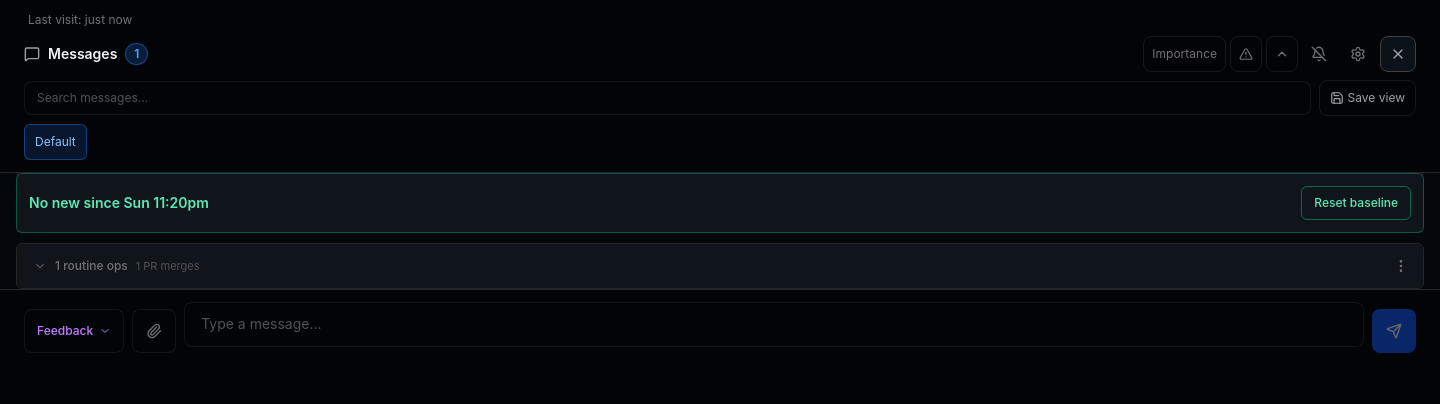
Test case: MessagesPanel mute window › selecting 1h surfaces the mute-active banner on the routine section
This screenshot has width=1440, height=404.
Expected: the text "Mute active" is not shown
Click the button named "Mute routine ops temporarily": [1319, 54] box top-left (1302, 36), bottom-right (1336, 72)
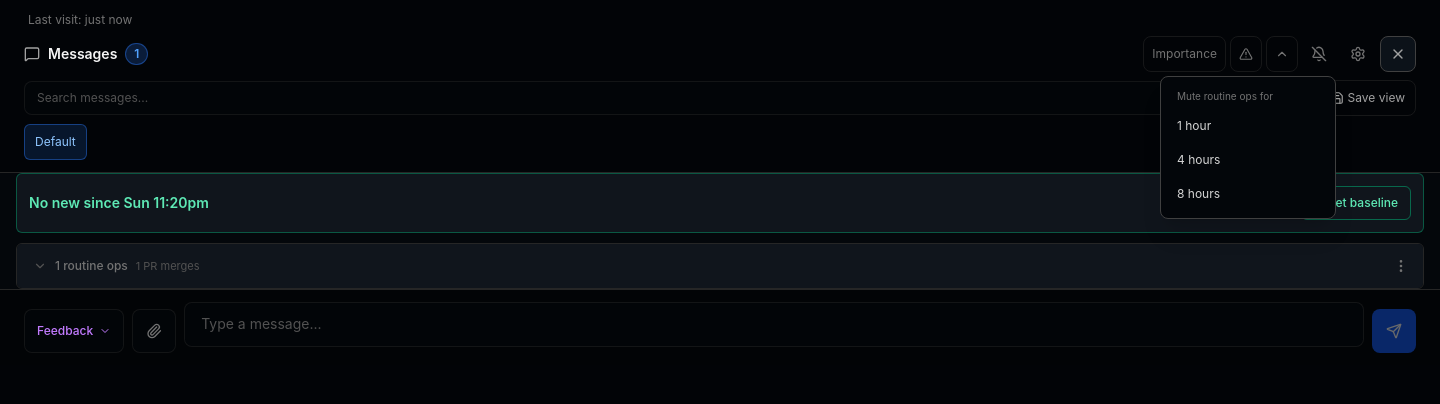
Click the button "1 hour": [1248, 126] box top-left (1169, 110), bottom-right (1327, 142)
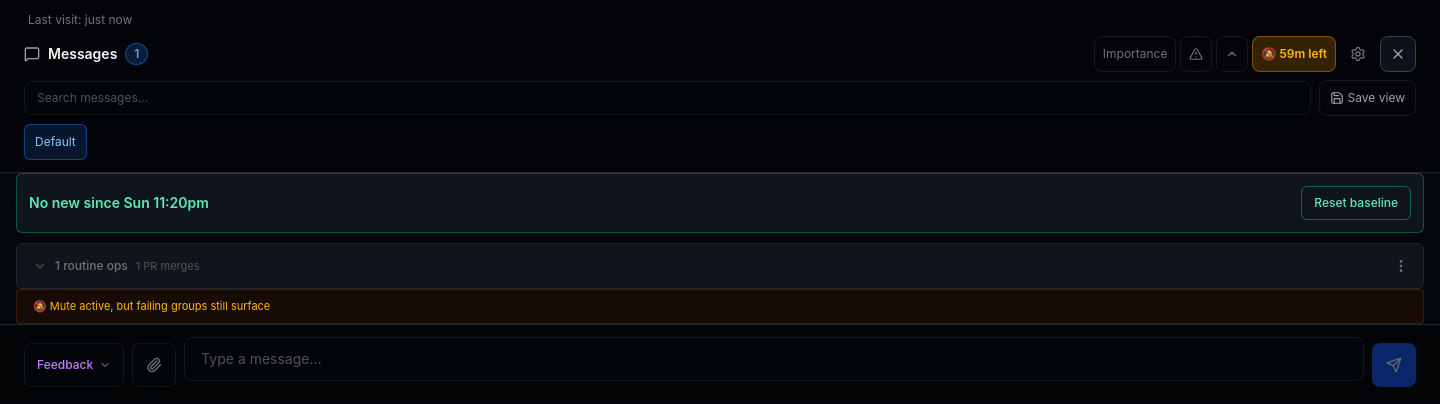
Expected: the text "Mute active" is shown, top-left (33, 299), bottom-right (270, 313)
